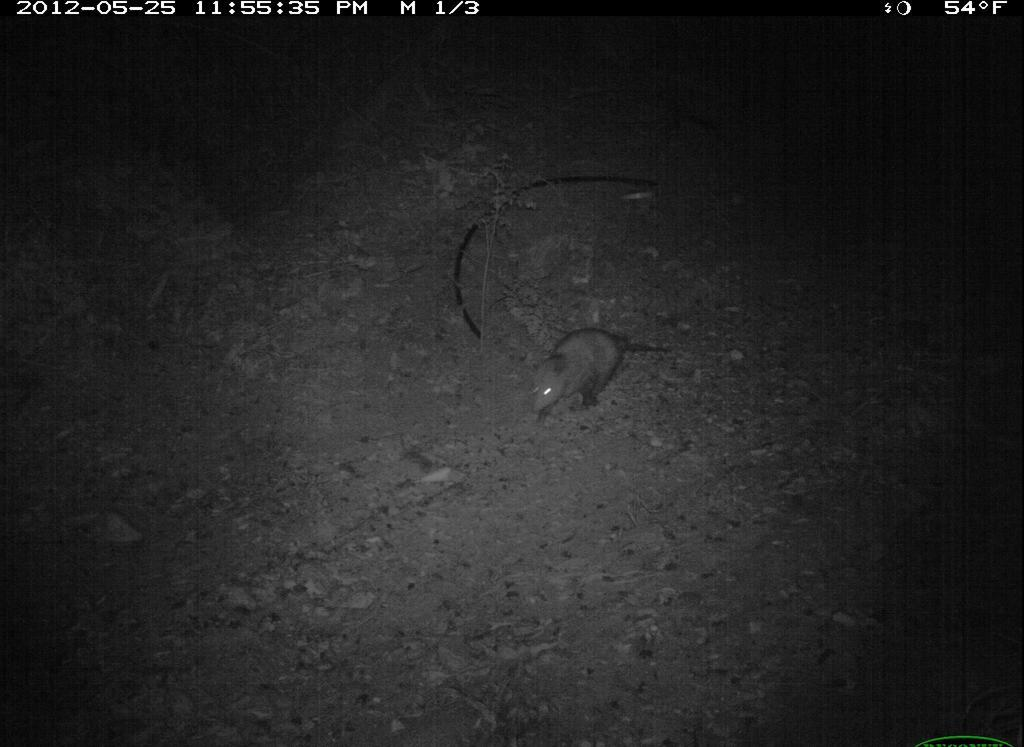opossum: (520, 317, 666, 433)
